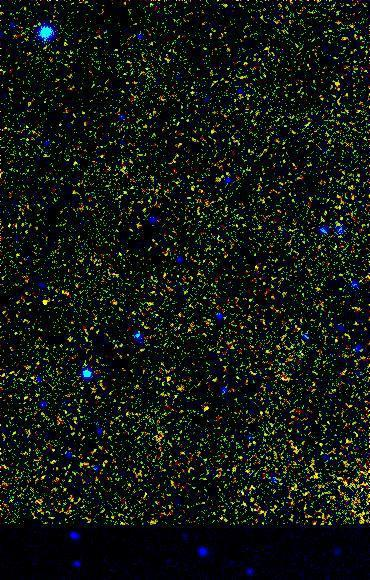star: (29, 285, 59, 315)
